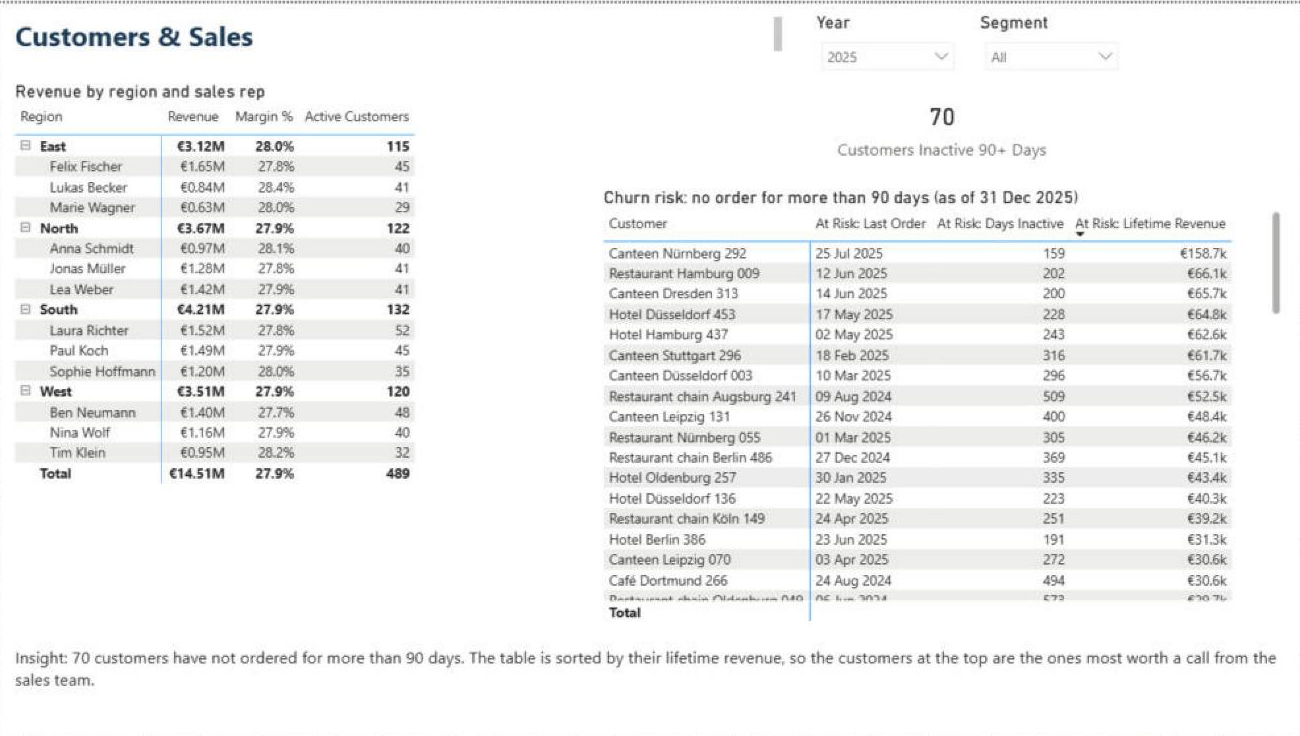

The dashboard page shown, as its layout file describes it:
{"tool":"powerbi","page":{"name":"Customers & Sales","canvas":[1280,720],"ordinal":1},"visuals":[{"type":"textbox","box":[16,8,760,44],"z":1000},{"type":"slicer","title":"Year","fields":{"Values":["DimDate.Year"]},"box":[800,8,150,62],"z":2000},{"type":"slicer","title":"Segment","fields":{"Values":["DimCustomer.segment"]},"box":[960,8,150,62],"z":3000},{"type":"pivotTable","title":"Revenue by region and sales rep","fields":{"Rows":["DimRep.region","DimRep.rep_name"],"Values":["_Measures.Revenue","_Measures.Margin %","_Measures.Active Customers"]},"box":[16,76,560,534],"z":4000},{"type":"card","fields":{"Values":["_Measures.Customers Inactive 90+ Days"]},"box":[592,76,672,90],"z":5000},{"type":"pivotTable","title":"Churn risk: no order for more than 90 days (as of 31 Dec 2025)","fields":{"Rows":["DimCustomer.customer_name"],"Values":["_Measures.At Risk: Last Order","_Measures.At Risk: Days Inactive","_Measures.At Risk: Lifetime Revenue"]},"box":[592,180,672,430],"z":6000},{"type":"textbox","box":[16,624,1248,80],"z":7000}]}

Visuals, with their boxes in screenshot pixels (x1, y1, x2, y2), scaled from the page's 1280x720 canvas onto the 1300x736 screenshot:
textbox: crop(16, 8, 788, 53)
"Year" slicer: crop(812, 8, 965, 72)
"Segment" slicer: crop(975, 8, 1127, 72)
"Revenue by region and sales rep" pivotTable: crop(16, 78, 585, 624)
card - _Measures.Customers Inactive 90+ Days: crop(601, 78, 1284, 170)
"Churn risk: no order for more than 90 days (as of 31 Dec 2025)" pivotTable: crop(601, 184, 1284, 624)
textbox: crop(16, 638, 1284, 720)
